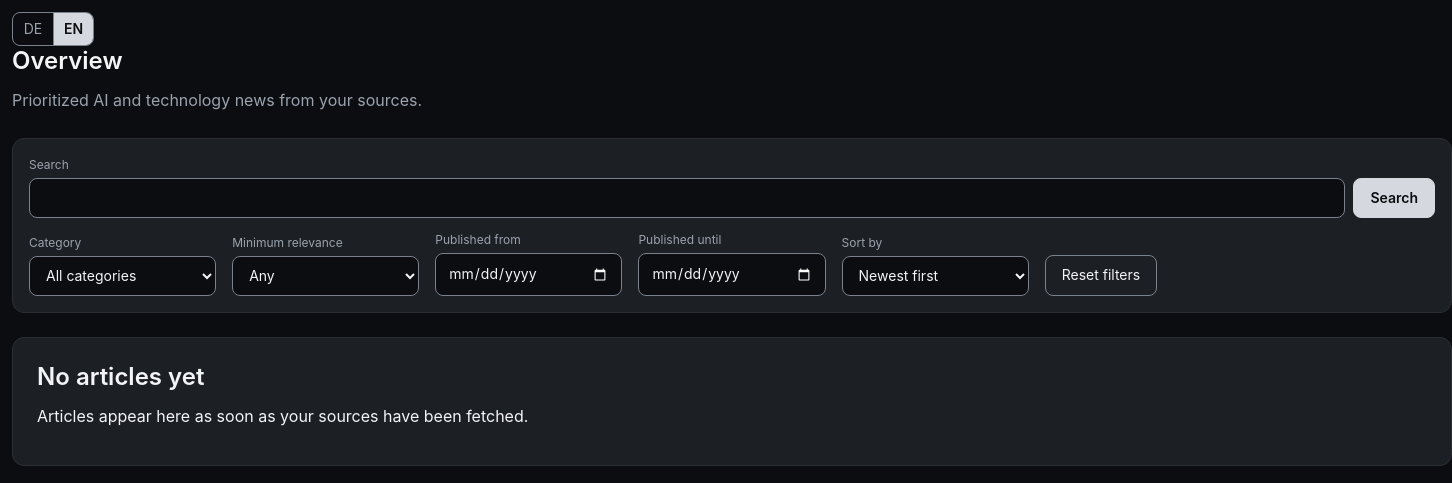
states › shows no results with filters and can reset them
This screenshot has width=1452, height=483.
Expected: the heading "No articles yet" is shown, x1=37 y1=362 x2=204 y2=391
Select "Security" in the dropdown labelled "Category" at (123,276), box x1=29 y1=256 x2=216 y2=296
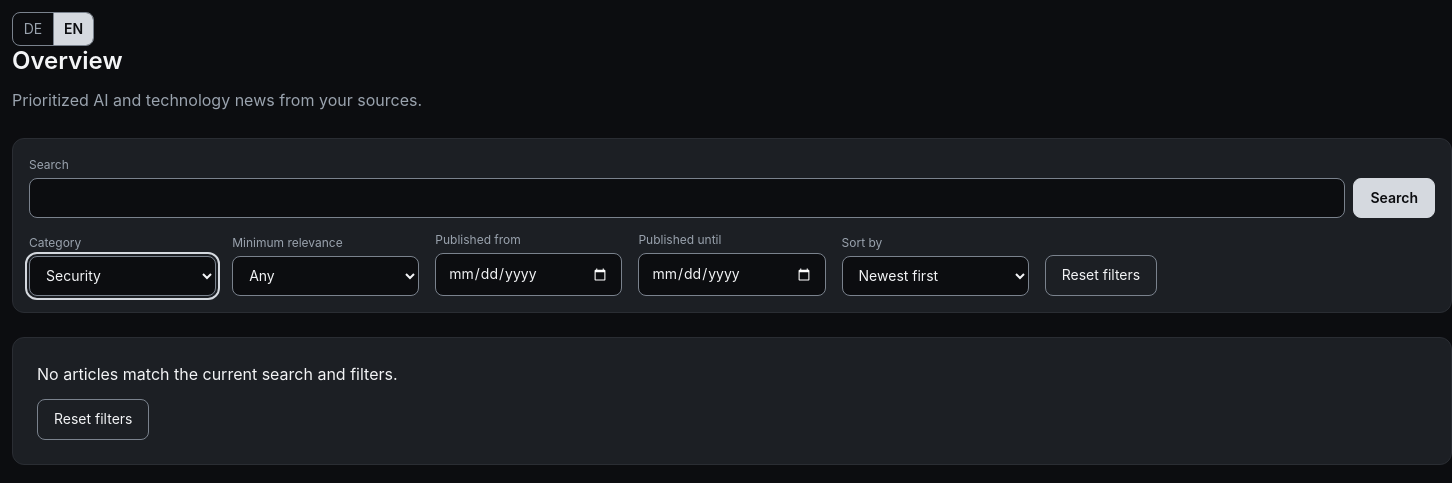
Expected: the text "No articles match the current search and filters." is shown, x1=37 y1=364 x2=398 y2=384
Click the 2nd button "Reset filters" at (93,420), box x1=37 y1=399 x2=150 y2=440
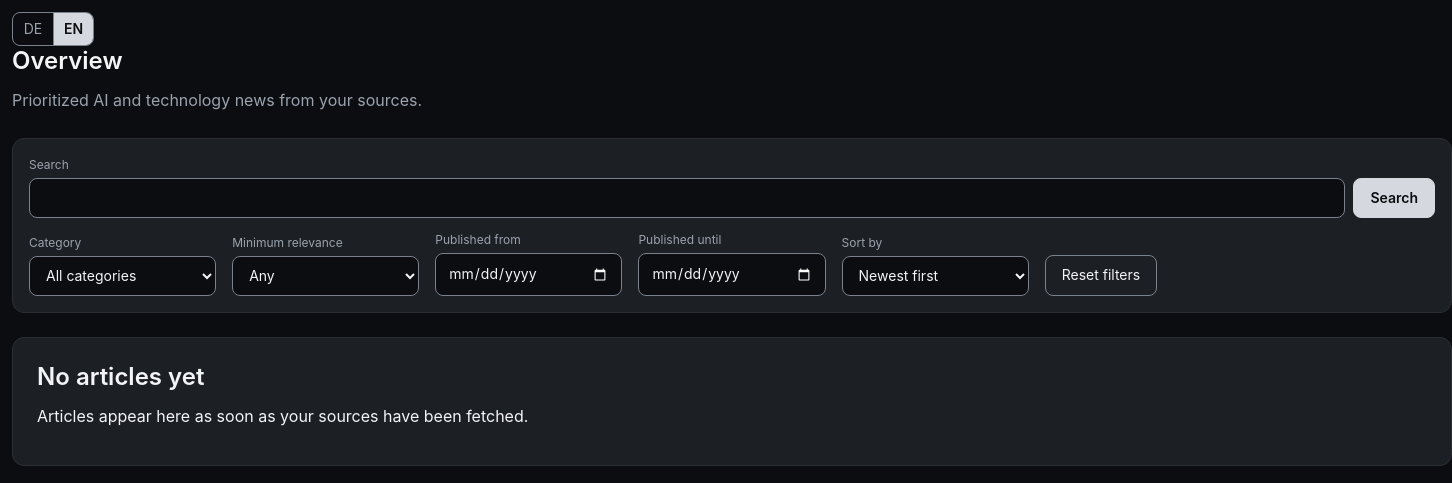
Expected: the heading "No articles yet" is shown, x1=37 y1=362 x2=204 y2=391
Expected: the dropdown labelled "Category" shows "All categories", x1=29 y1=256 x2=216 y2=296
